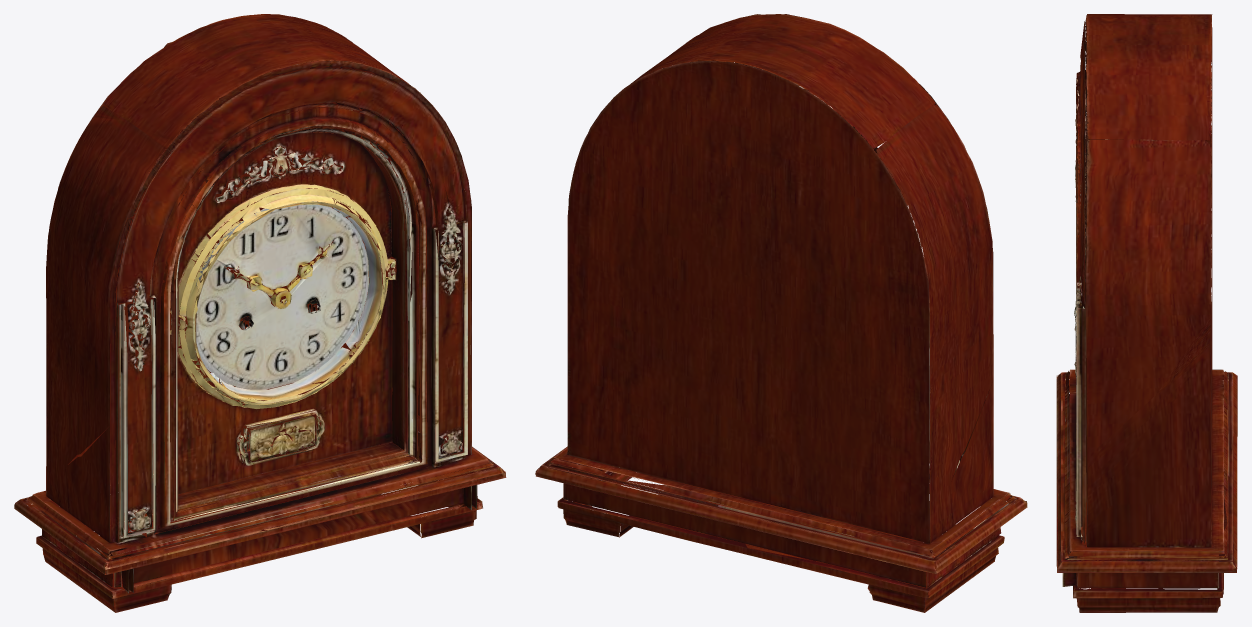
File: mantel.glb
3 views of the same model, side by side, from view 1: azimuth 30°, elevation 25°; view 2: azimuth 150°, elevation 25°; view 3: azimuth 270°, elevation 25° (orthographic).
Visible parts, largest first — view 1: mantel; view 2: mantel; view 3: mantel.
Part boxes in pixels (x1,y1,x2,y2): mantel: (14,14,506,612); mantel: (535,14,1027,612); mantel: (1056,14,1237,612).
Bounding box in the file's own units: 0.8379 × 1 × 0.3321.
Materials: 1 (1 with a texture image).
